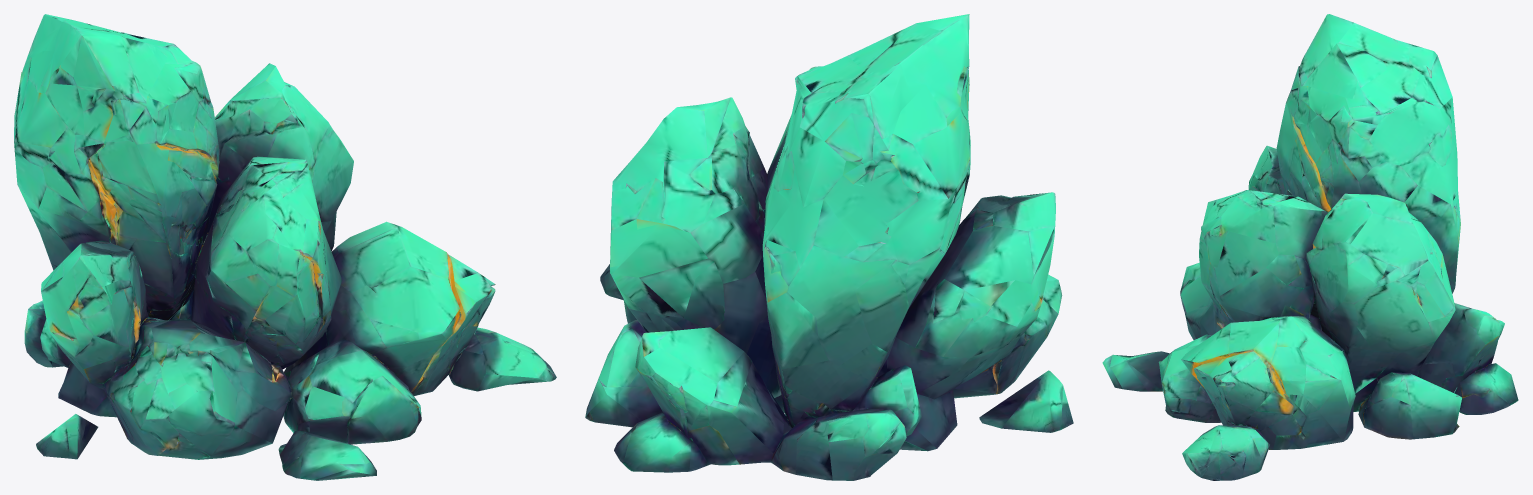
File: prop-obsidian-rocks-lod1.glb
The picture shows the model from 3 angles, left to right: view 1: azimuth 30°, elevation 25°; view 2: azimuth 150°, elevation 25°; view 3: azimuth 270°, elevation 25°; orthographic projection. The views are drawn at different scales.
Visible parts, largest first — view 1: Mesh_0; view 2: Mesh_0; view 3: Mesh_0.
Part boxes in pixels (x1,y1,x2,y2): Mesh_0: [14, 14, 556, 480]; Mesh_0: [585, 14, 1073, 480]; Mesh_0: [1102, 14, 1518, 480].
Size of the model in its own units: 1.9 by 1.49 by 1.81.
Materials: 1 (1 with a texture image).
